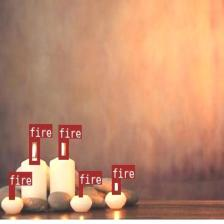fire: (28, 137, 40, 164), (58, 138, 68, 158), (111, 178, 120, 194), (9, 185, 14, 199), (79, 184, 82, 196)
